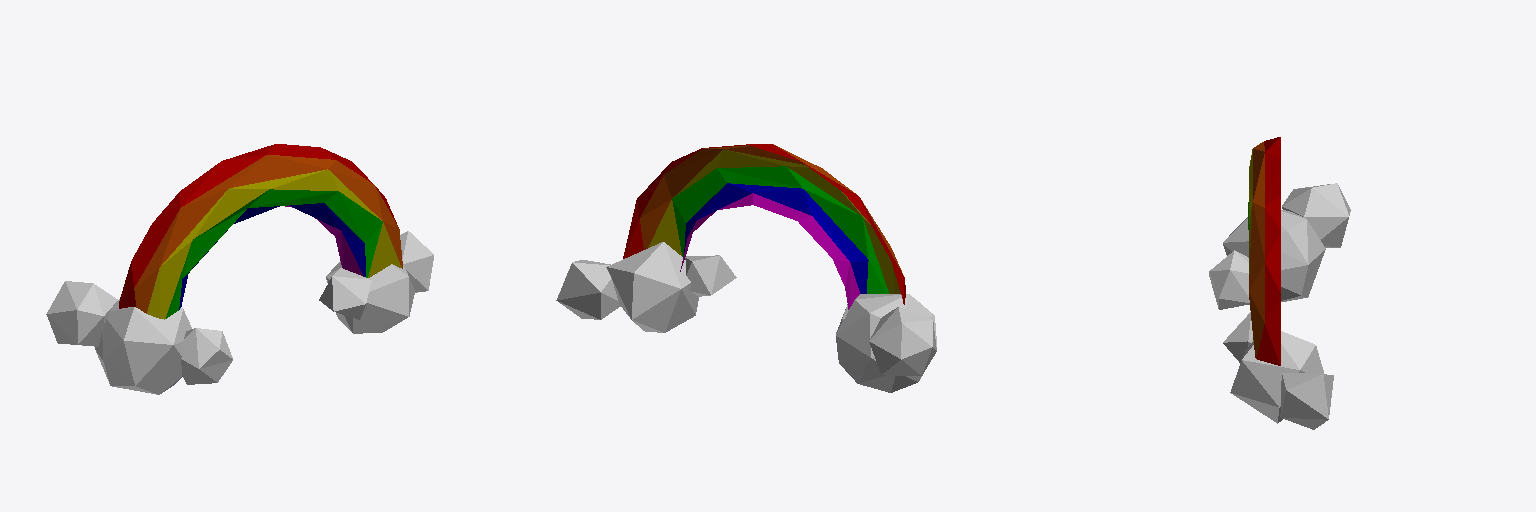
Rendered from rainbow.obj.
The picture shows the model from 3 angles: view 1: azimuth 30°, elevation 25°; view 2: azimuth 150°, elevation 25°; view 3: azimuth 270°, elevation 25°; orthographic projection.
Parts seen in each view (by area): view 1: Torus, Icosphere.002_Icosphere.007, Icosphere.000; view 2: Torus, Icosphere.000, Icosphere.002_Icosphere.007; view 3: Icosphere.002_Icosphere.007, Icosphere.000, Torus.
Boxes of the visible parts, x1,y1,x2,y2 form: Torus: [119, 144, 402, 319]; Icosphere.002_Icosphere.007: [46, 281, 232, 394]; Icosphere.000: [319, 231, 433, 333]; Torus: [623, 144, 905, 309]; Icosphere.000: [556, 242, 736, 332]; Icosphere.002_Icosphere.007: [836, 294, 936, 392]; Icosphere.002_Icosphere.007: [1209, 183, 1350, 309]; Icosphere.000: [1223, 312, 1333, 429]; Torus: [1248, 137, 1280, 365].
Size of the model in its own units: 3.31 by 1.81 by 1.09.